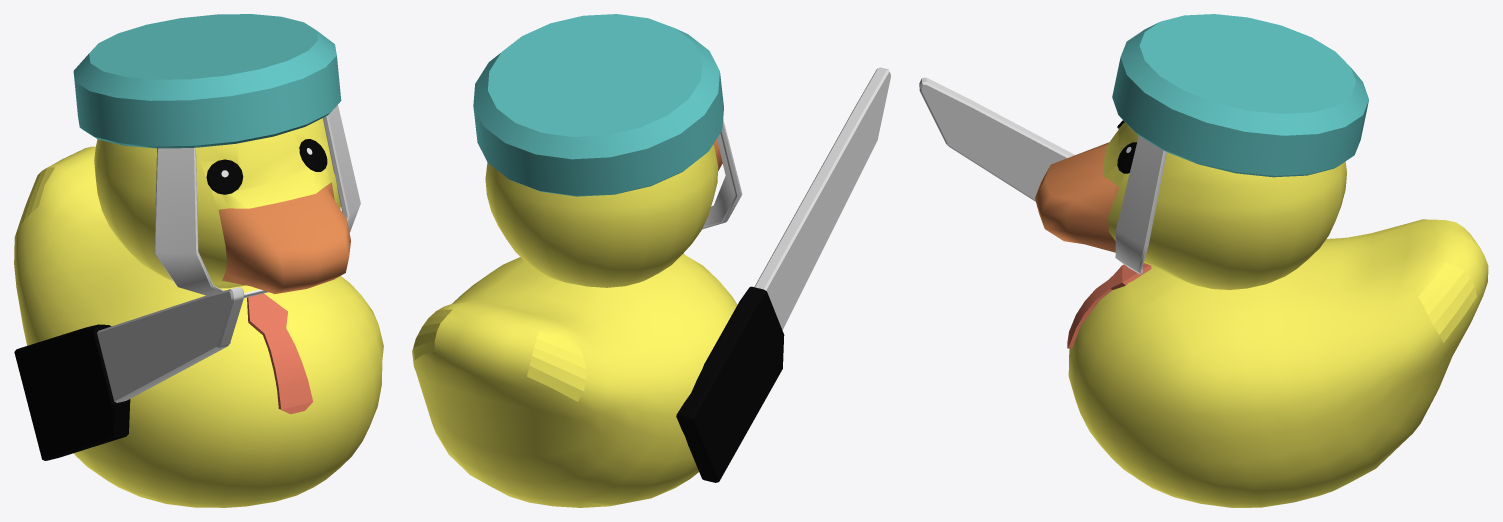
The model's file is Sir_Bottle_cap.fbx.
3 views of the same model, side by side, from view 1: azimuth 30°, elevation 25°; view 2: azimuth 150°, elevation 25°; view 3: azimuth 270°, elevation 25° (orthographic). The views are drawn at different scales.
Visible parts, largest first — view 1: polySurface27, pCylinder3, polySurface20, polySurface25, polySurface26, polySurface24, polySurface14, polySurface15; view 2: polySurface27, pCylinder3, polySurface25, polySurface26; view 3: polySurface27, pCylinder3, polySurface26, polySurface20, polySurface24.
Boxes of the visible parts, left/top/right/bottom form: polySurface27: left=14, top=118, right=383, bottom=507; pCylinder3: left=73, top=14, right=360, bottom=298; polySurface20: left=218, top=182, right=350, bottom=293; polySurface25: left=14, top=324, right=130, bottom=460; polySurface26: left=97, top=287, right=244, bottom=402; polySurface24: left=247, top=293, right=313, bottom=414; polySurface14: left=206, top=159, right=243, bottom=194; polySurface15: left=299, top=139, right=327, bottom=171; polySurface27: left=412, top=144, right=737, bottom=507; pCylinder3: left=473, top=14, right=742, bottom=229; polySurface25: left=676, top=286, right=784, bottom=482; polySurface26: left=754, top=67, right=890, bottom=329; polySurface27: left=1068, top=122, right=1488, bottom=507; pCylinder3: left=1112, top=14, right=1368, bottom=274; polySurface26: left=919, top=77, right=1074, bottom=201; polySurface20: left=1035, top=142, right=1118, bottom=252; polySurface24: left=1067, top=263, right=1151, bottom=348.
Size of the model in its own units: 1.38 by 2 by 2.42.
